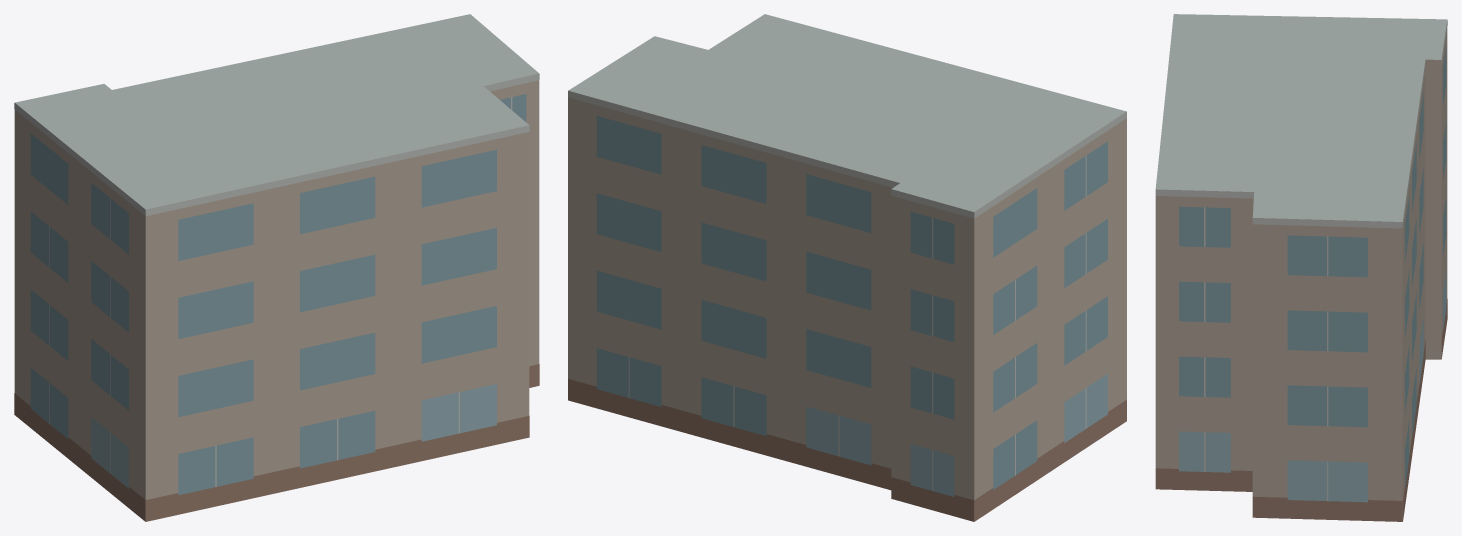
File: survey-upis-32525125.glb
3 views of the same model, side by side, from view 1: azimuth 30°, elevation 25°; view 2: azimuth 150°, elevation 25°; view 3: azimuth 270°, elevation 25° (orthographic). The views are drawn at different scales.
Parts seen in each view (by area): view 1: survey-upis-32525125.tmp; view 2: survey-upis-32525125.tmp; view 3: survey-upis-32525125.tmp.
Boxes of the visible parts, x1,y1,x2,y2 form: survey-upis-32525125.tmp: (14, 14, 539, 521); survey-upis-32525125.tmp: (568, 14, 1126, 521); survey-upis-32525125.tmp: (1155, 14, 1447, 521).
Bounding box in the file's own units: 17.05 × 11.45 × 10.11.
